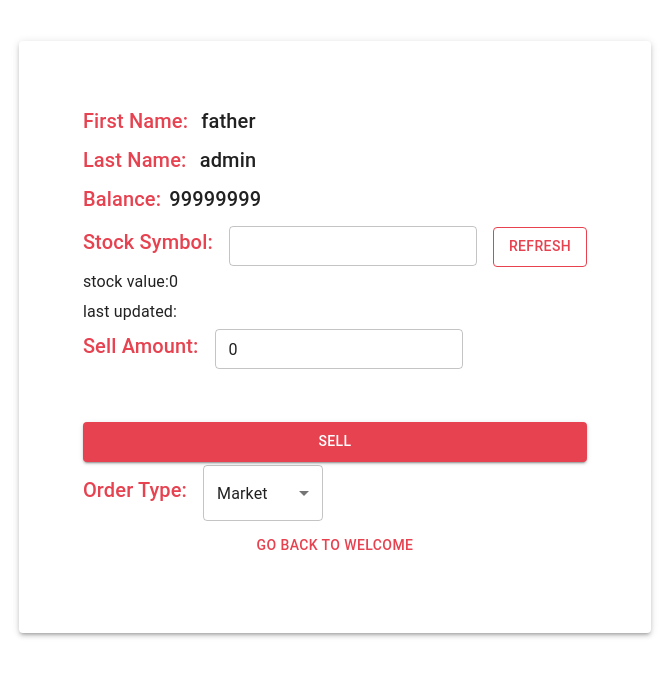
Test Sell component › displays error message when stock symbol is not provided
Click the button "Sell" at (335, 442), box top-left (83, 422), bottom-right (587, 462)
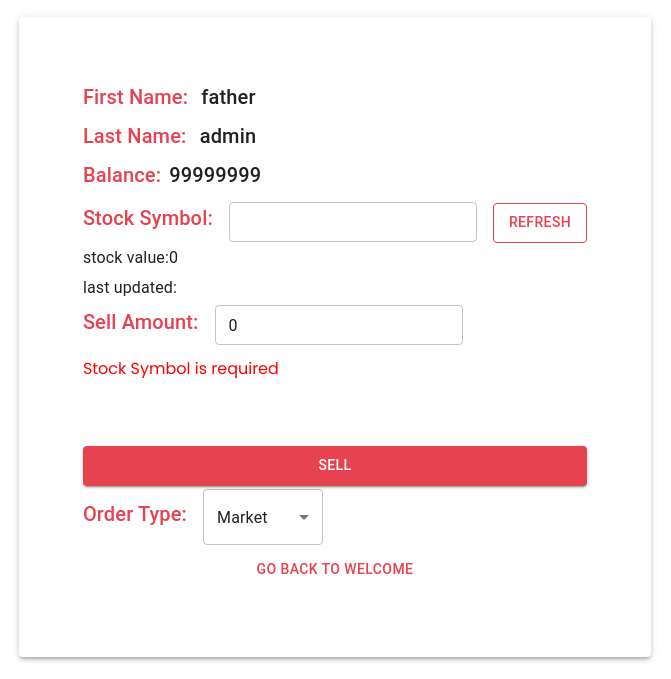
Check: the text "Stock Symbol is required" is shown, box top-left (83, 357), bottom-right (279, 380)
